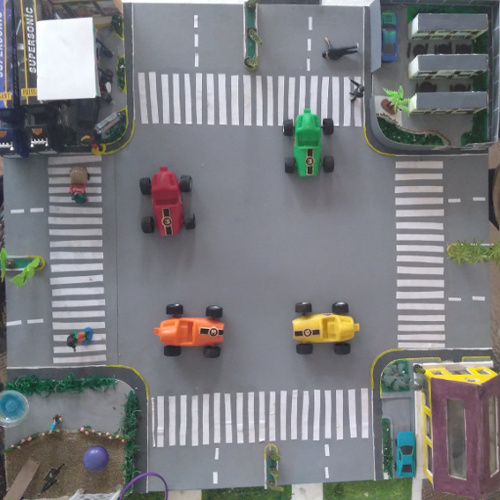amarillo: (293, 300, 363, 357)
naranja: (154, 301, 226, 360)
rojo: (139, 166, 200, 236)
verde: (280, 108, 336, 180)
